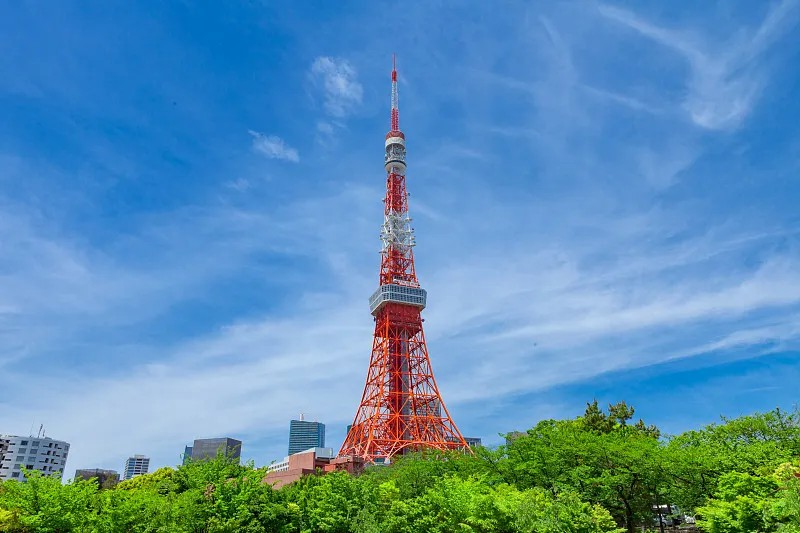Tokyo: (336, 48, 475, 470)
